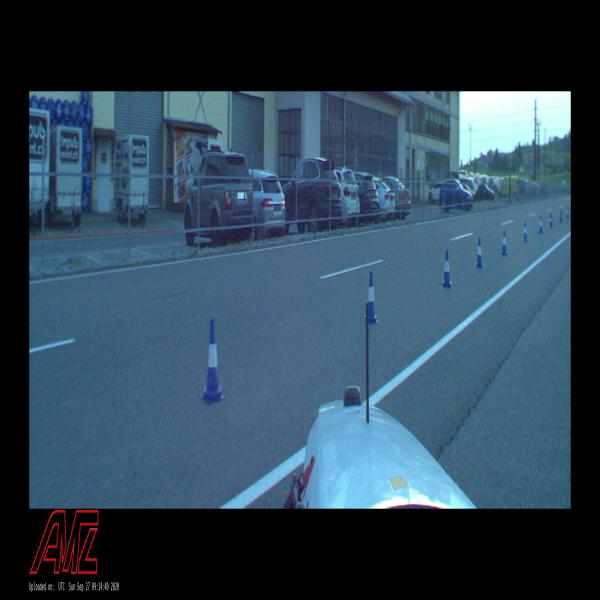blue_cone: (202, 319, 224, 403), (364, 271, 378, 323), (442, 250, 452, 287), (475, 237, 484, 268), (501, 230, 507, 254), (523, 221, 528, 241), (539, 215, 543, 234), (549, 212, 553, 228), (566, 207, 569, 219), (560, 210, 562, 223)
